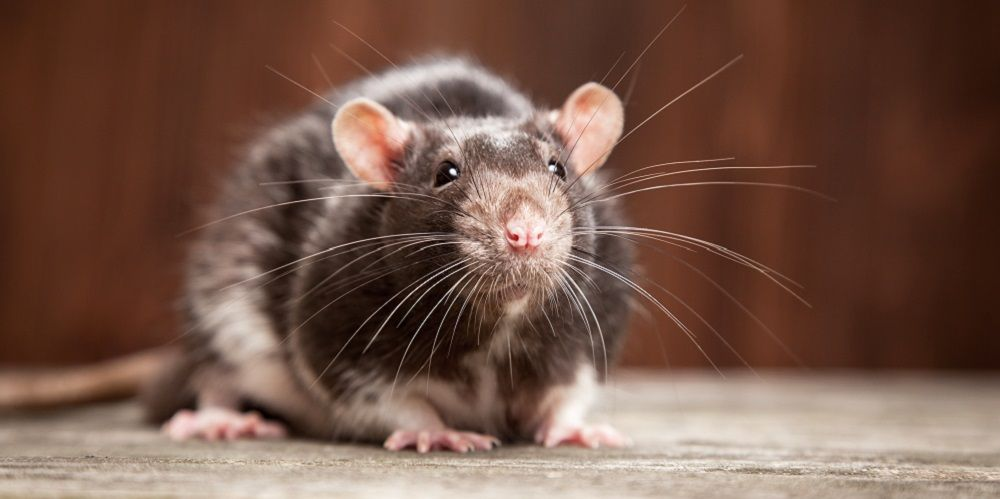rat: (107, 34, 700, 471)
